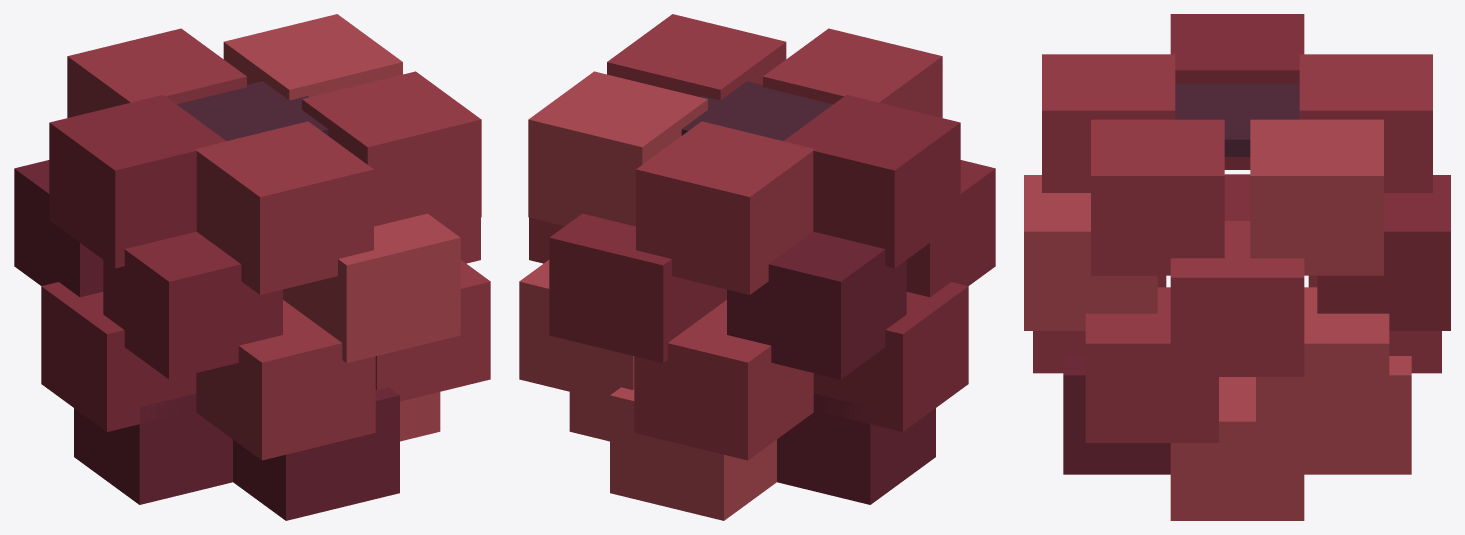
Rendered from RB-02_joan_j.glb.
The picture shows the model from 3 angles, left to right: view 1: azimuth 30°, elevation 25°; view 2: azimuth 150°, elevation 25°; view 3: azimuth 270°, elevation 25°; orthographic projection.
Visible parts, largest first — view 1: Joan J · original workbench cubes; view 2: Joan J · original workbench cubes; view 3: Joan J · original workbench cubes.
Boxes of the visible parts, left/top/right/bottom form: Joan J · original workbench cubes: left=14, top=14, right=490, bottom=520; Joan J · original workbench cubes: left=519, top=14, right=995, bottom=520; Joan J · original workbench cubes: left=1024, top=14, right=1450, bottom=520.
Bounding box in the file's own units: 0.092 × 0.08 × 0.0895.
